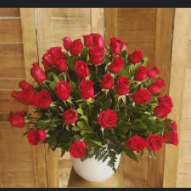RedRose: (43, 46, 67, 74), (12, 78, 34, 105), (68, 138, 92, 161), (6, 106, 29, 129), (123, 132, 145, 156), (26, 126, 49, 147), (162, 120, 178, 149), (107, 34, 130, 54), (146, 131, 164, 155), (30, 60, 46, 87), (87, 45, 106, 67), (98, 108, 117, 129), (54, 80, 71, 103), (98, 73, 113, 98), (83, 30, 105, 47), (116, 74, 130, 100), (134, 59, 149, 83), (62, 104, 79, 125), (155, 98, 172, 119), (134, 87, 152, 106), (149, 76, 166, 96), (80, 77, 94, 100), (37, 88, 51, 111), (69, 38, 86, 55), (111, 53, 124, 74), (128, 49, 146, 64), (74, 60, 89, 76), (61, 34, 73, 50), (149, 64, 162, 76)
